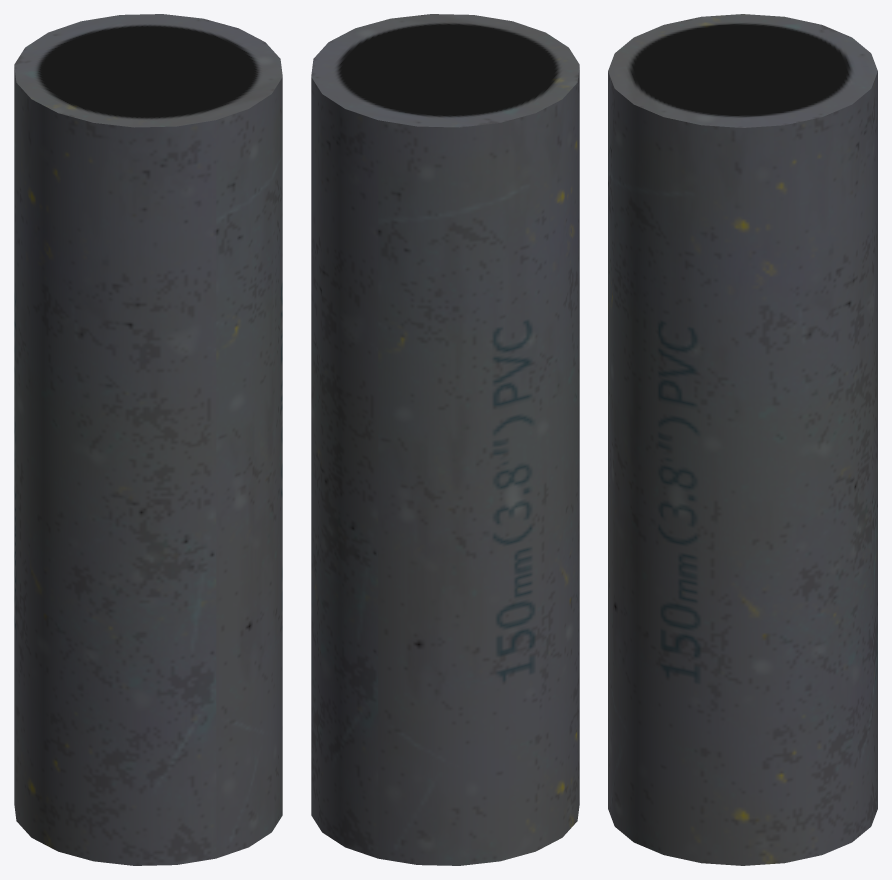
File: PlasticPipe_03a_snaps019.fbx
3 views of the same model, side by side, from view 1: azimuth 30°, elevation 25°; view 2: azimuth 150°, elevation 25°; view 3: azimuth 270°, elevation 25° (orthographic).
Visible parts, largest first — view 1: PlasticPipe_03a_snaps019_LOD0; view 2: PlasticPipe_03a_snaps019_LOD0; view 3: PlasticPipe_03a_snaps019_LOD0.
Boxes of the visible parts, box(x1,y1,x2,y2) form: PlasticPipe_03a_snaps019_LOD0: box(14, 14, 282, 865); PlasticPipe_03a_snaps019_LOD0: box(311, 14, 579, 865); PlasticPipe_03a_snaps019_LOD0: box(608, 14, 877, 865).
Size of what is drawn, in the model's own units: 16.57 by 50 by 16.57.
